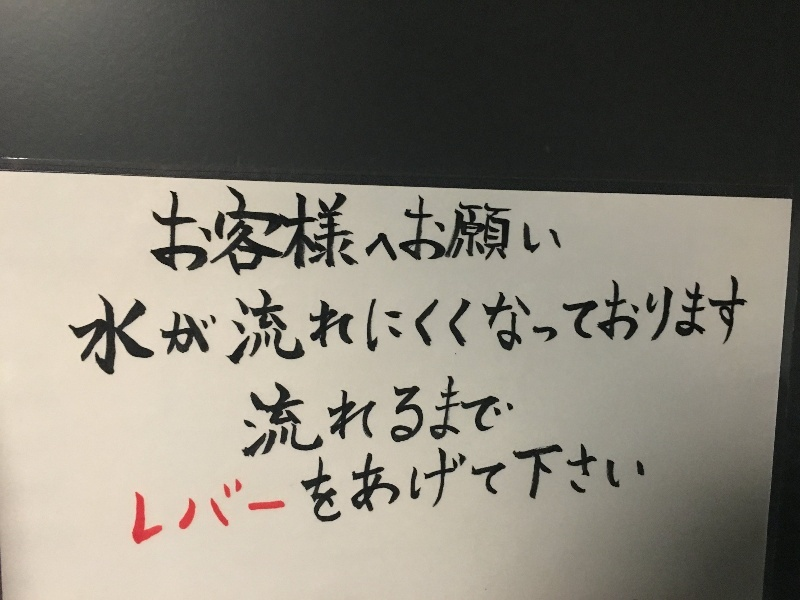text: (145, 427, 160, 554), (161, 427, 176, 554), (177, 427, 192, 554), (193, 427, 208, 554), (209, 427, 224, 554), (225, 427, 240, 554), (241, 427, 256, 554), (257, 427, 272, 554), (273, 427, 288, 554), (289, 427, 304, 554), (305, 427, 320, 554), (321, 427, 336, 554), (337, 427, 352, 554), (353, 427, 368, 554), (369, 427, 384, 554), (385, 427, 400, 554), (401, 427, 416, 554), (417, 427, 432, 554), (433, 427, 448, 554), (449, 427, 464, 554), (465, 427, 480, 554), (481, 427, 496, 554), (497, 427, 512, 554), (513, 427, 528, 554), (529, 427, 544, 554), (545, 427, 560, 554), (561, 427, 576, 554), (577, 427, 592, 554), (593, 427, 608, 554), (609, 427, 624, 554), (625, 427, 640, 554), (65, 271, 80, 385), (81, 271, 96, 385), (97, 271, 112, 385), (113, 271, 128, 385), (129, 271, 144, 385), (145, 271, 160, 385), (161, 271, 176, 385), (177, 271, 192, 385), (193, 271, 208, 385), (209, 271, 224, 385), (225, 271, 240, 385), (241, 271, 256, 385), (257, 271, 272, 385), (273, 271, 288, 385), (289, 271, 304, 385), (305, 271, 320, 385), (321, 271, 336, 385), (337, 271, 352, 385), (353, 271, 368, 385), (369, 271, 384, 385), (385, 271, 400, 385), (401, 271, 416, 385), (417, 271, 432, 385), (433, 271, 448, 385), (449, 271, 464, 385), (465, 271, 480, 385), (481, 271, 496, 385), (497, 271, 512, 385), (513, 271, 528, 385), (529, 271, 544, 385), (545, 271, 560, 385), (561, 271, 576, 385), (577, 271, 592, 385), (593, 271, 608, 385), (609, 271, 624, 385), (625, 271, 640, 385), (641, 271, 656, 385), (657, 271, 672, 385), (673, 271, 688, 385), (689, 271, 704, 385), (705, 271, 720, 385), (721, 271, 736, 385), (737, 271, 751, 385), (132, 427, 144, 554), (241, 365, 256, 464), (257, 365, 272, 464), (273, 365, 288, 464), (289, 365, 304, 464), (305, 365, 320, 464), (321, 365, 336, 464), (337, 365, 352, 464), (353, 365, 368, 464), (369, 365, 384, 464), (385, 365, 400, 464), (401, 365, 416, 464), (417, 365, 432, 464), (433, 365, 448, 464), (449, 365, 464, 464), (465, 365, 480, 464), (481, 365, 496, 464), (497, 365, 512, 464), (161, 180, 176, 278), (177, 180, 192, 278), (193, 180, 208, 278), (209, 180, 224, 278), (225, 180, 240, 278), (241, 180, 256, 278), (257, 180, 272, 278), (273, 180, 288, 278), (289, 180, 304, 278), (305, 180, 320, 278), (321, 180, 336, 278), (337, 180, 352, 278), (353, 180, 368, 278), (369, 180, 384, 278), (385, 180, 400, 278), (401, 180, 416, 278), (417, 180, 432, 278), (433, 180, 448, 278), (449, 180, 464, 278), (465, 180, 480, 278), (481, 180, 496, 278), (497, 180, 512, 278), (513, 180, 528, 278), (529, 180, 544, 278), (545, 180, 560, 278), (147, 180, 160, 278), (641, 427, 649, 554), (513, 365, 518, 464), (561, 180, 566, 278), (237, 365, 240, 464)
